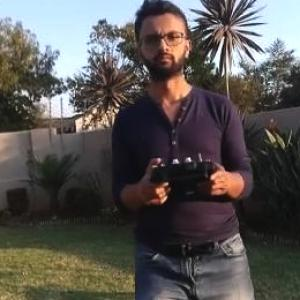follow: (109, 0, 258, 299)
